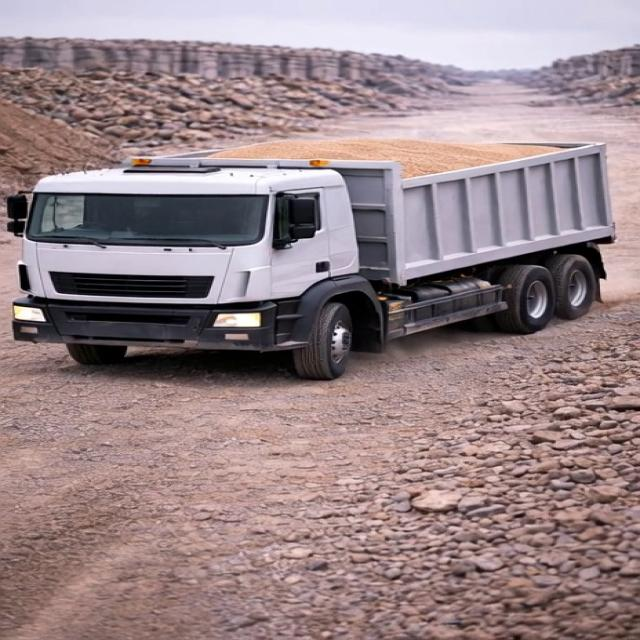trailer: (114, 136, 596, 174)
truck: (5, 121, 631, 378)
